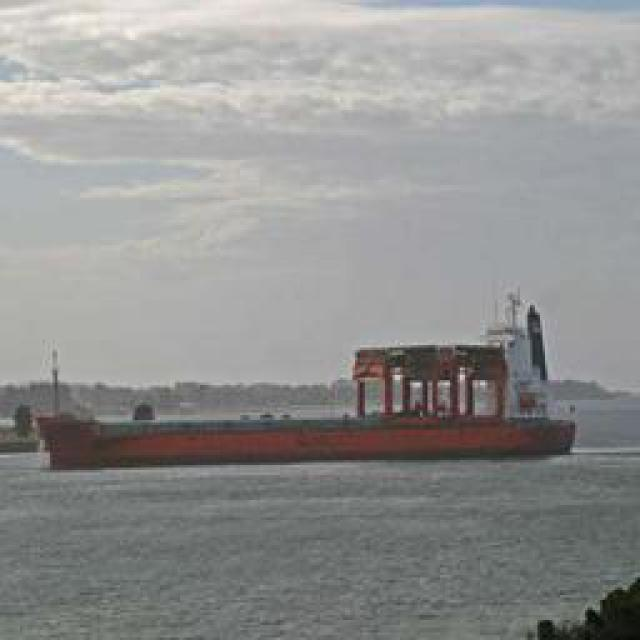Ship: (39, 360, 582, 468)
